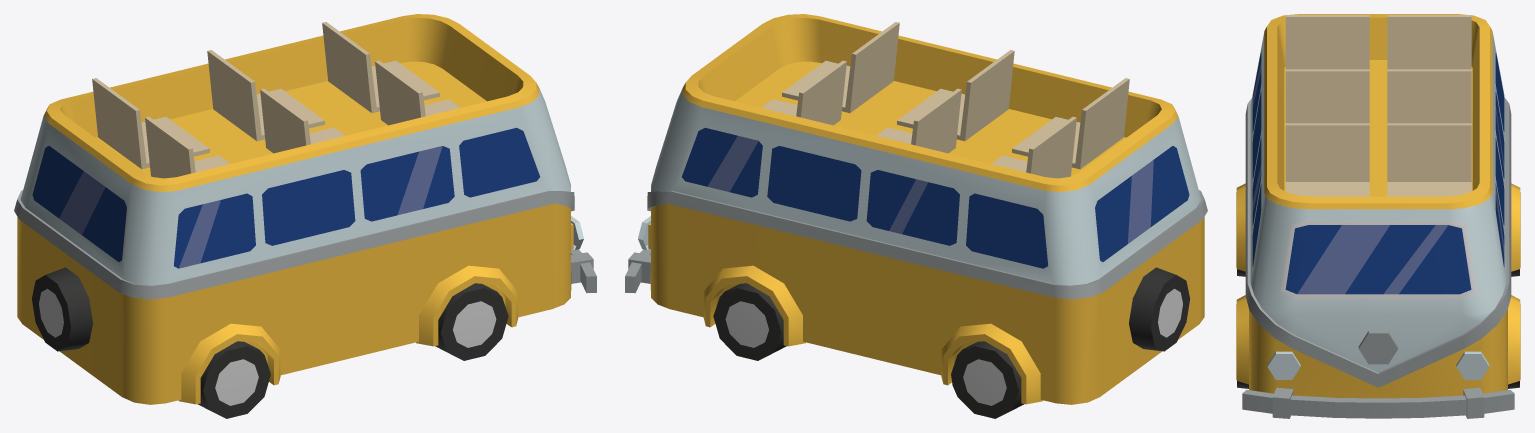
The model's file is van_open.fbx.
3 views of the same model, side by side, from view 1: azimuth 30°, elevation 25°; view 2: azimuth 150°, elevation 25°; view 3: azimuth 270°, elevation 25° (orthographic). The views are drawn at different scales.
Visible parts, largest first — view 1: van_open_color, van_open, van_open_wheel; view 2: van_open_color, van_open, van_open_wheel; view 3: van_open, van_open_color.
Boxes of the visible parts, box(x1,y1,x2,y2) form: van_open_color: box(17, 14, 573, 404); van_open: box(14, 22, 596, 351); van_open_wheel: box(197, 283, 508, 418); van_open_color: box(648, 14, 1204, 404); van_open: box(625, 22, 1207, 351); van_open_wheel: box(713, 283, 1024, 418); van_open: box(1242, 15, 1514, 418); van_open_color: box(1236, 14, 1520, 398).
Bounding box in the file's own units: 19.09 × 9.46 × 9.86.
